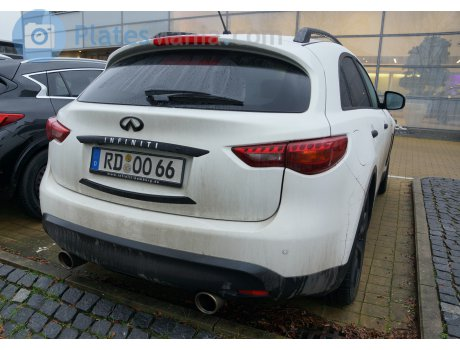License Plates: (104, 151, 179, 176)
